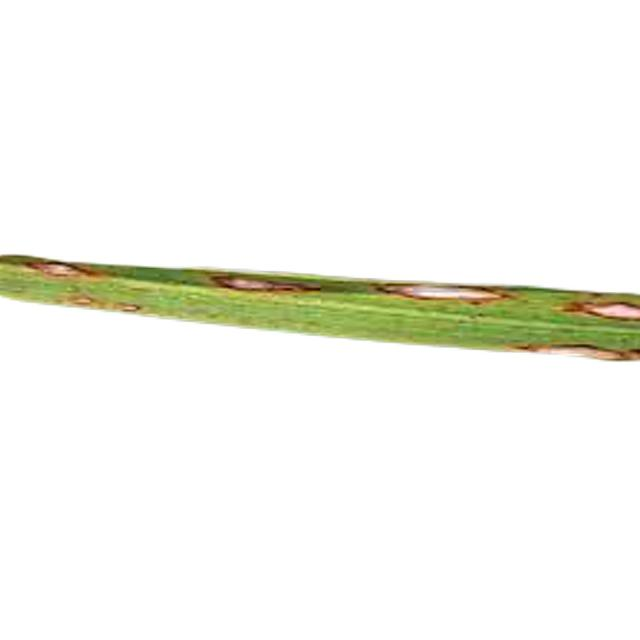Leaf blast: (1, 143, 640, 483)
